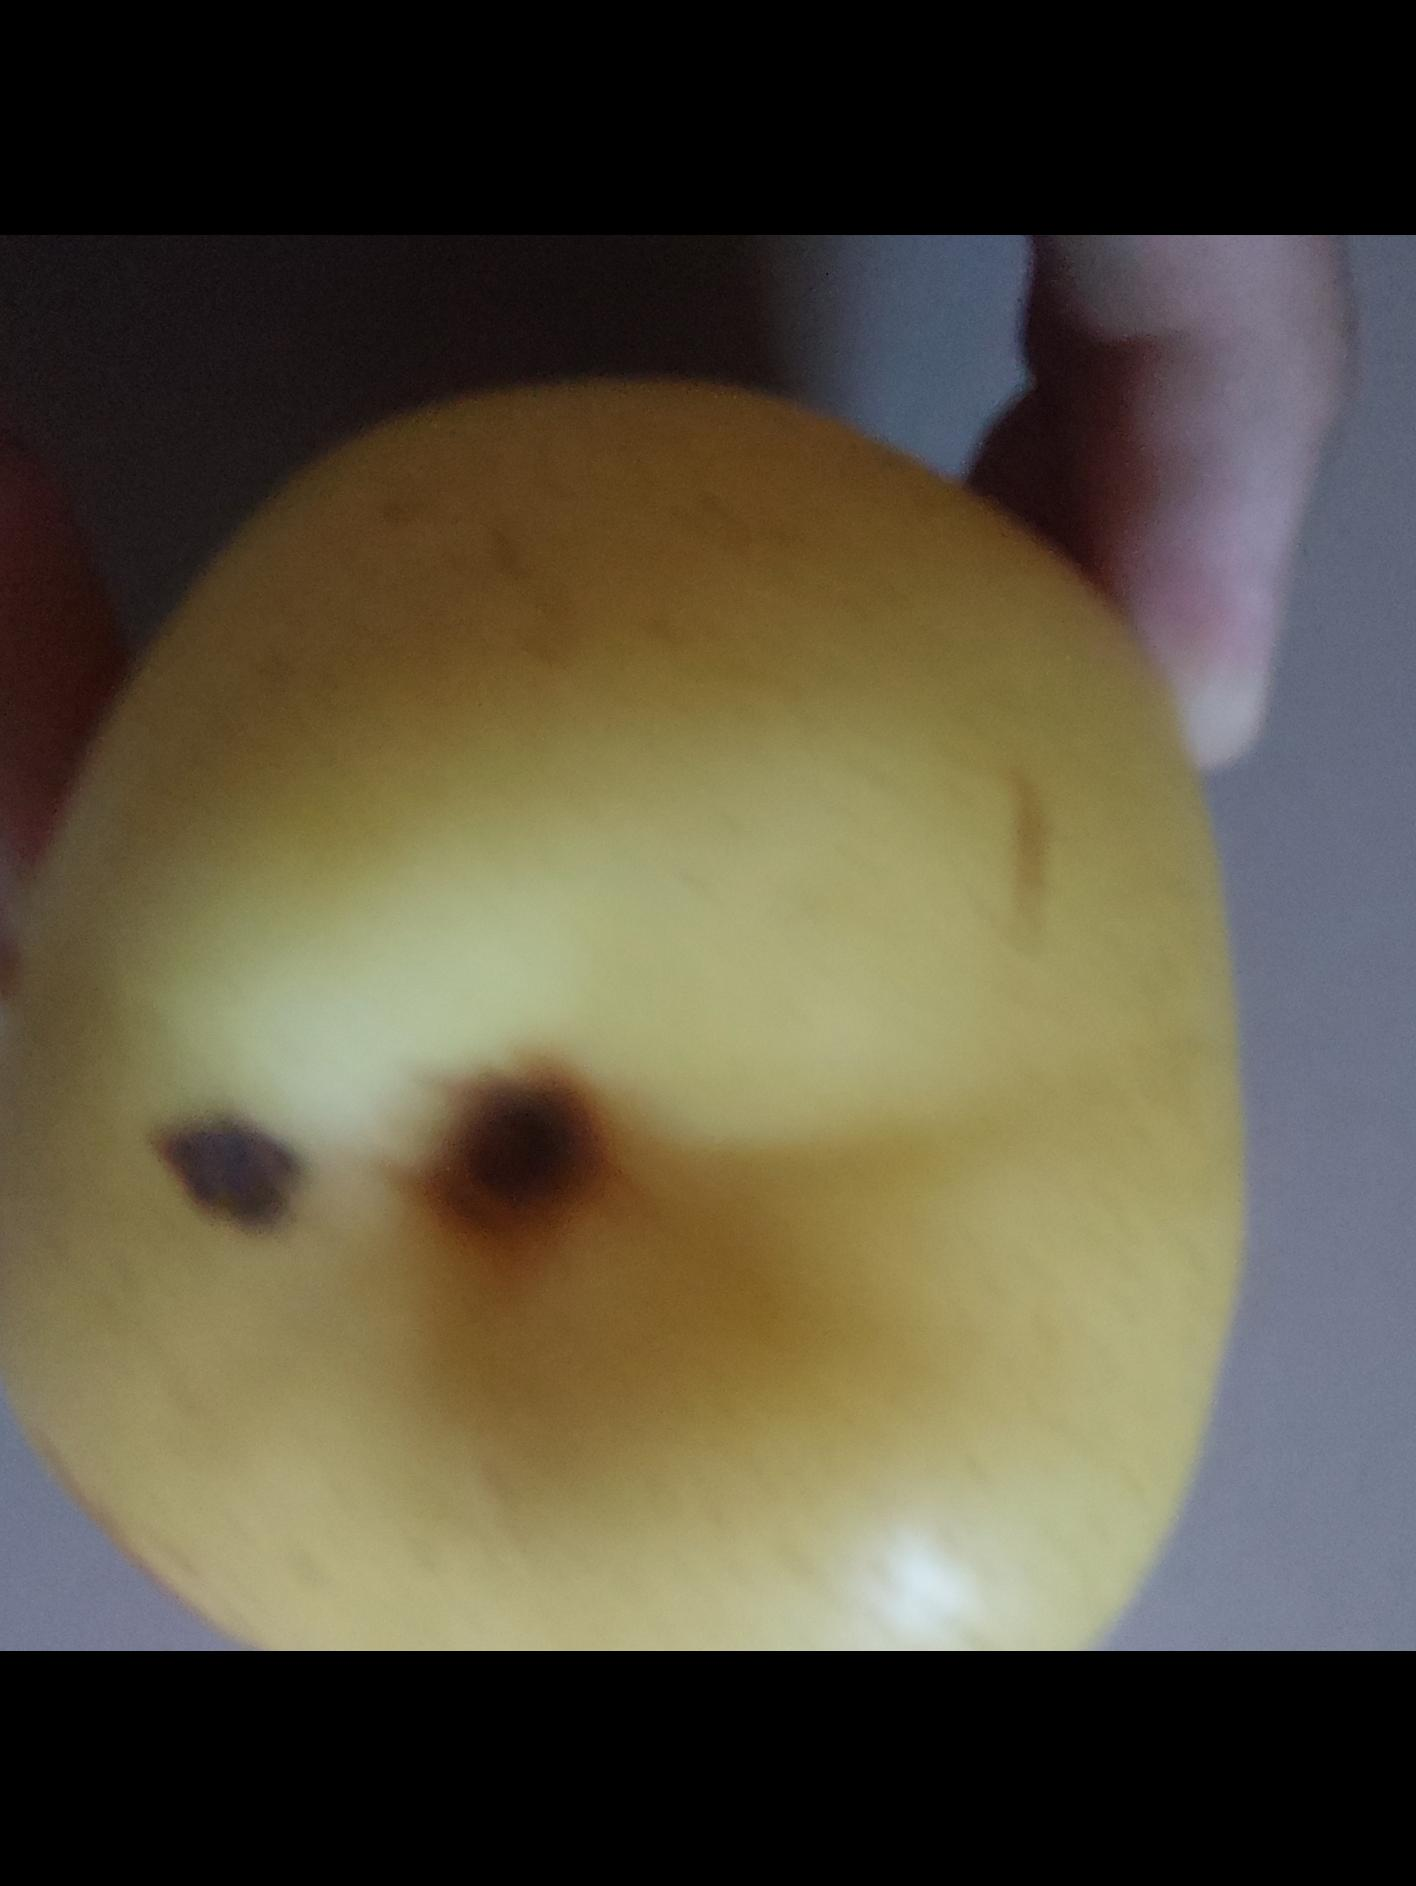Good Pear: (0, 379, 1246, 1651)
